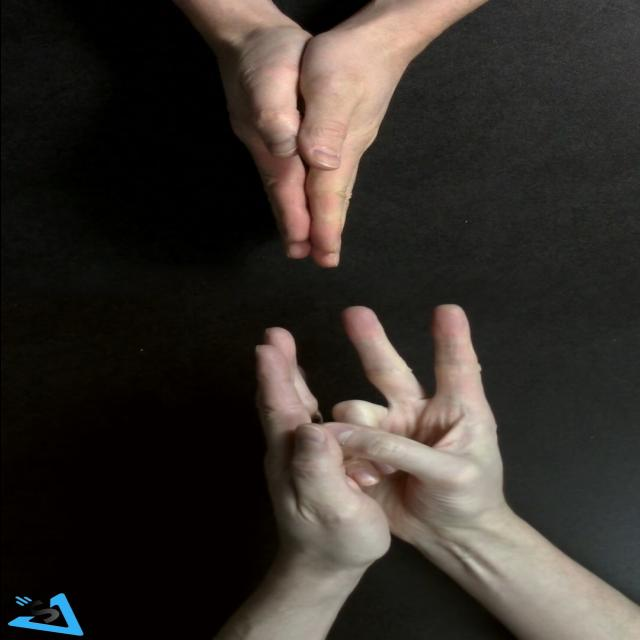Paper: (294, 28, 412, 268)
Scissors: (331, 303, 508, 543)
